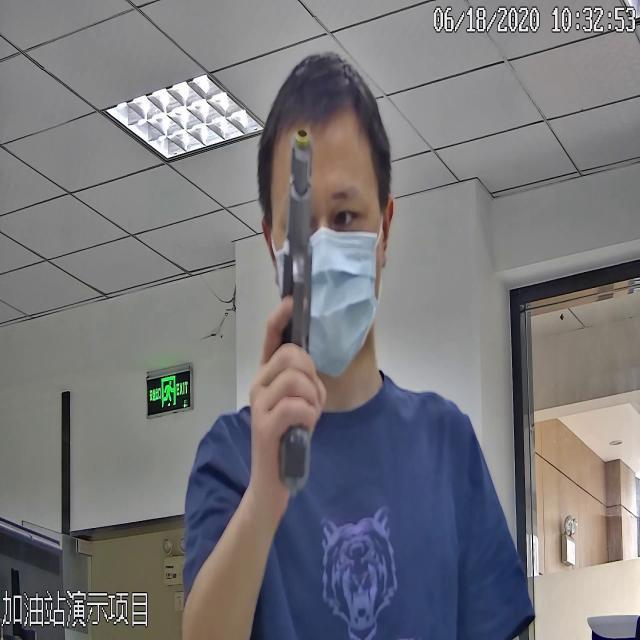gun-knife-thesis - v11 Yolov5 augmented: (268, 121, 323, 502)
